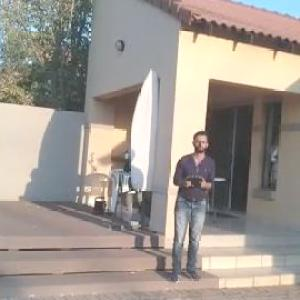follow: (164, 126, 216, 286)
